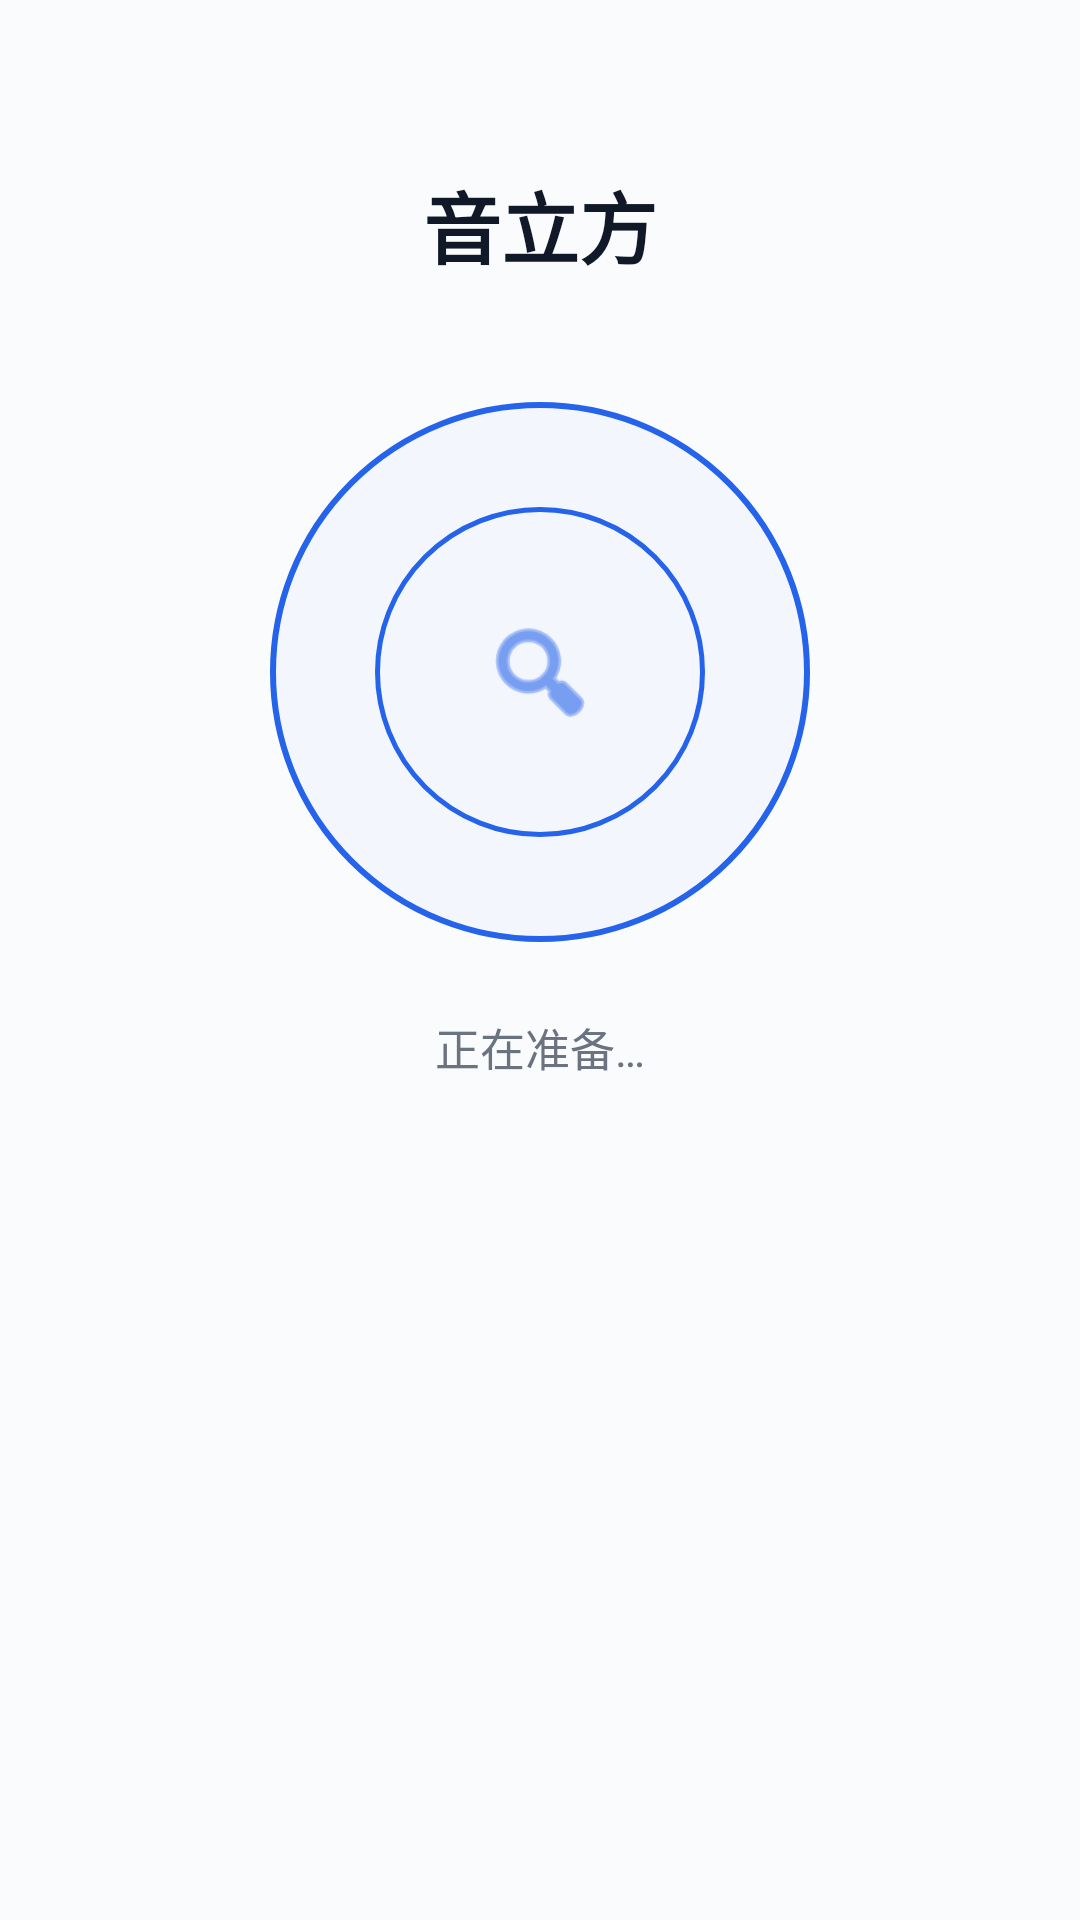

Icons on this 1080×1920 Android screen, each with the point to tap as (x,y):
search: (540,672)
